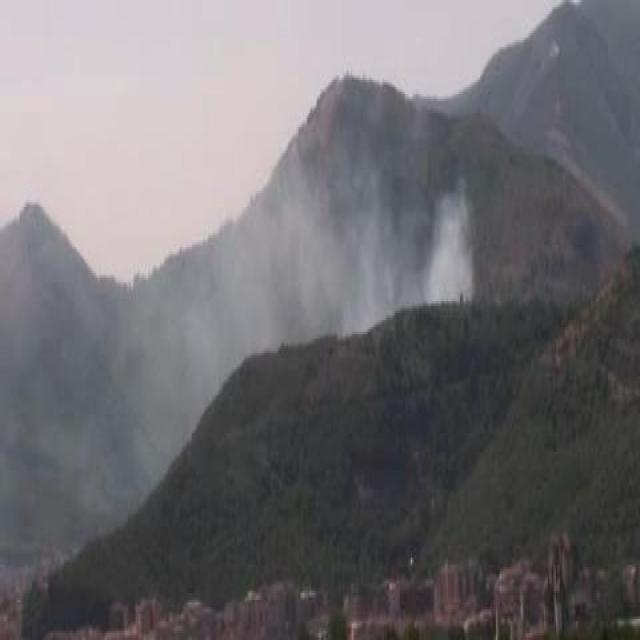Smoke: (224, 184, 475, 320), (12, 290, 181, 450)
